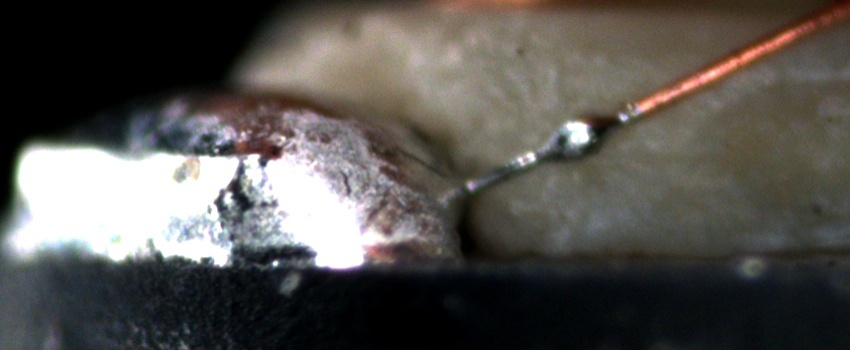DL: (582, 56, 850, 92)
TB: (535, 106, 622, 173)
TS: (464, 106, 639, 195)
TTCW: (462, 78, 680, 198)
